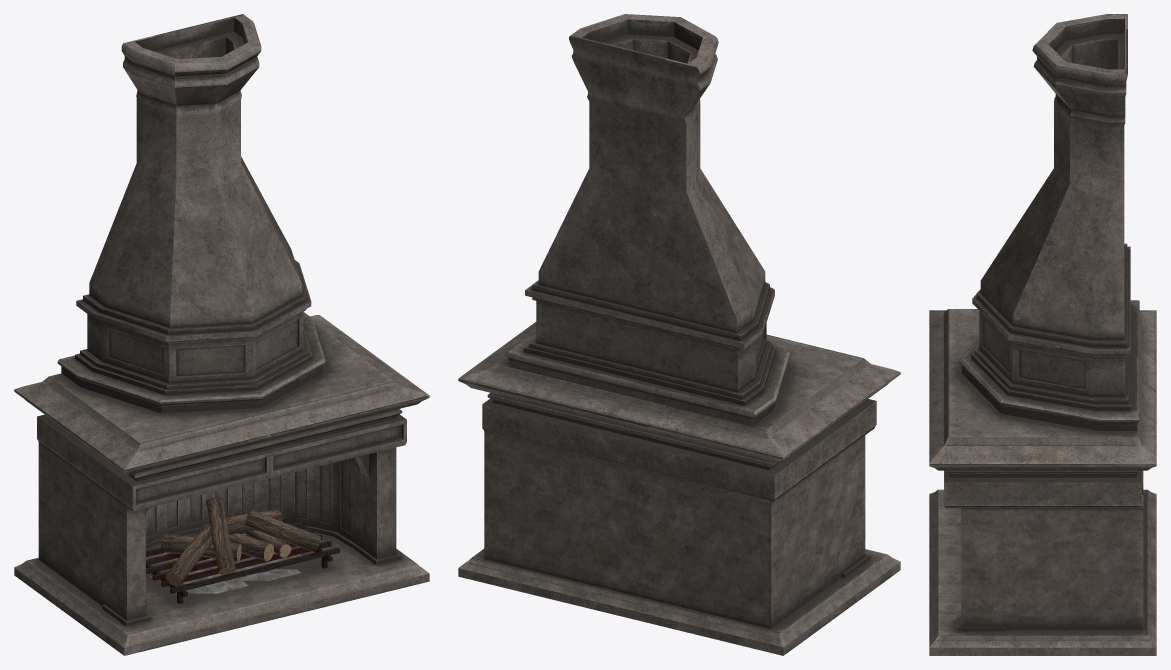
File: fireplace.glb
3 views of the same model, side by side, from view 1: azimuth 30°, elevation 25°; view 2: azimuth 150°, elevation 25°; view 3: azimuth 270°, elevation 25° (orthographic). The views are drawn at different scales.
Visible parts, largest first — view 1: Object_9, Object_7, Object_6, Object_4, Object_5, Object_8, Object_3; view 2: Object_9, Object_6, Object_7, Object_4; view 3: Object_9, Object_7, Object_6, Object_4.
Boxes of the visible parts, bbox=[...] form: Object_9: bbox=[57, 14, 325, 413]; Object_7: bbox=[14, 315, 429, 511]; Object_6: bbox=[38, 442, 401, 626]; Object_4: bbox=[14, 532, 429, 655]; Object_5: bbox=[161, 497, 321, 586]; Object_8: bbox=[146, 515, 339, 603]; Object_3: bbox=[151, 548, 301, 593]; Object_9: bbox=[504, 14, 790, 426]; Object_6: bbox=[484, 431, 870, 628]; Object_7: bbox=[458, 322, 900, 501]; Object_4: bbox=[458, 549, 900, 655]; Object_9: bbox=[959, 14, 1139, 430]; Object_7: bbox=[929, 309, 1156, 508]; Object_6: bbox=[956, 470, 1143, 631]; Object_4: bbox=[929, 489, 1156, 655].
Size of the model in its own units: 200 by 325 by 125.
8 materials, 8 textured.
